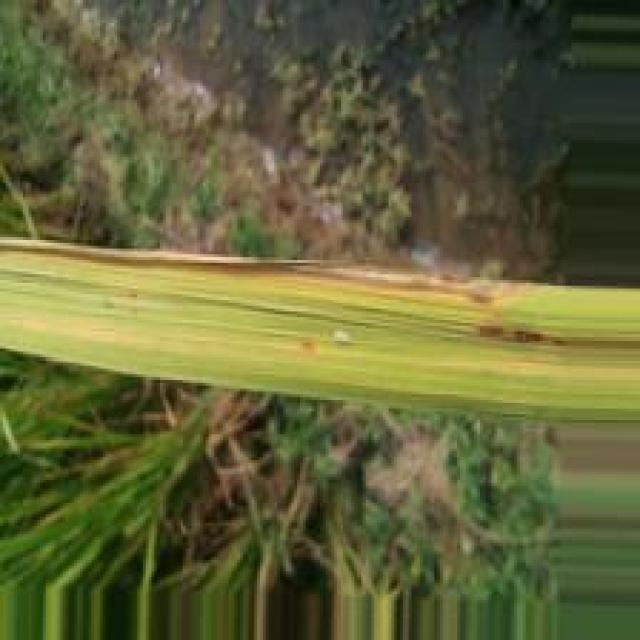Leaf_Blast: (254, 258, 540, 310), (2, 240, 254, 275), (472, 320, 570, 347)
